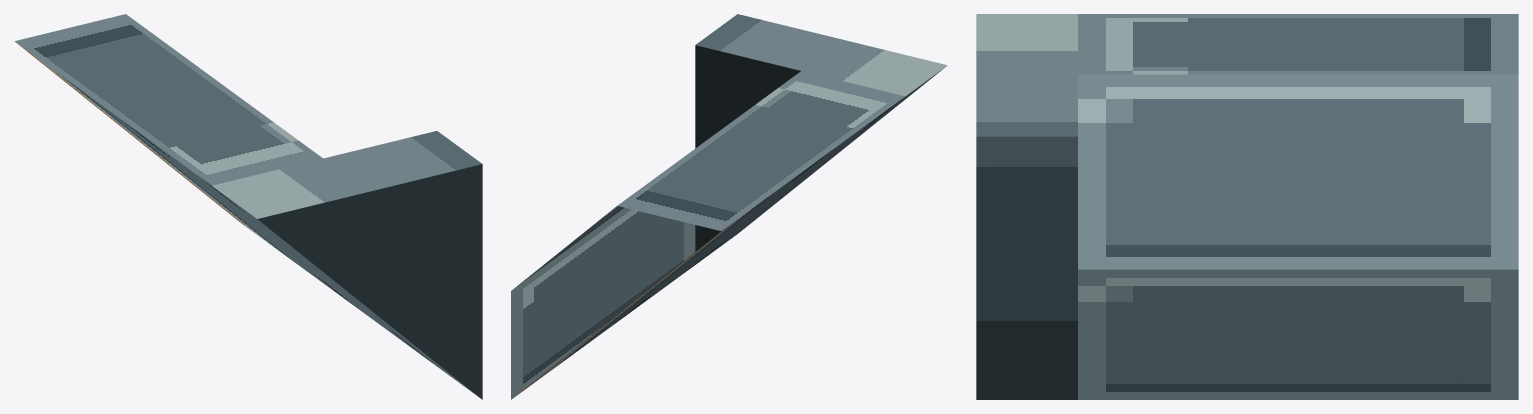
File: casing_d5_rear_x-2_y-2.obj
3 renders of one model, left to right at view 1: azimuth 30°, elevation 25°; view 2: azimuth 150°, elevation 25°; view 3: azimuth 270°, elevation 25°, orthographic. The views are drawn at different scales.
Parts seen in each view (by area): view 1: d5_rear_x-2_y-2; view 2: d5_rear_x-2_y-2; view 3: d5_rear_x-2_y-2.
Part boxes in pixels (x1=…): d5_rear_x-2_y-2: x1=14, y1=14, x2=482, y2=399; d5_rear_x-2_y-2: x1=511, y1=14, x2=947, y2=399; d5_rear_x-2_y-2: x1=976, y1=14, x2=1518, y2=399.
Size of the model in its own units: 0.5355 by 0.5355 by 1.
